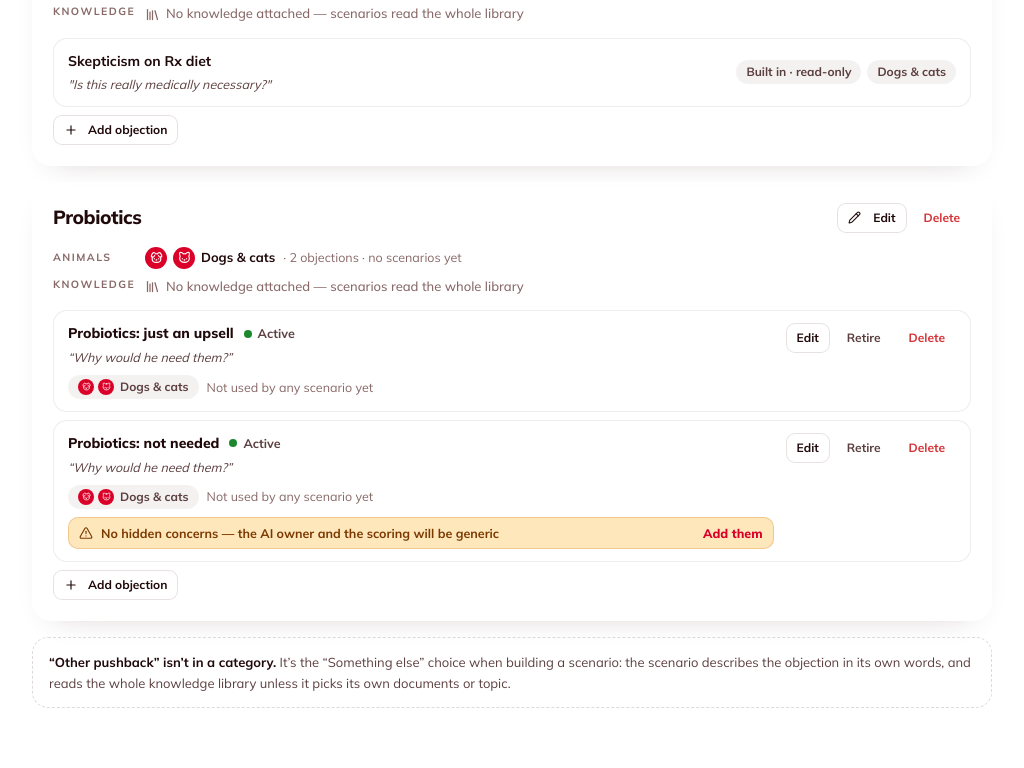
Test: Categories tab — objections without hidden concerns › a plain Edit keeps Coaching folded, but its note says it is recommended
(page scrolled)
Expected: the element "Probiotics" is shown, [32,182,992,621]
Step 1. Click the button with aria-label "Edit “Probiotics: not needed”" → x=808, y=448, box [786,433,830,463]
(page scrolled)
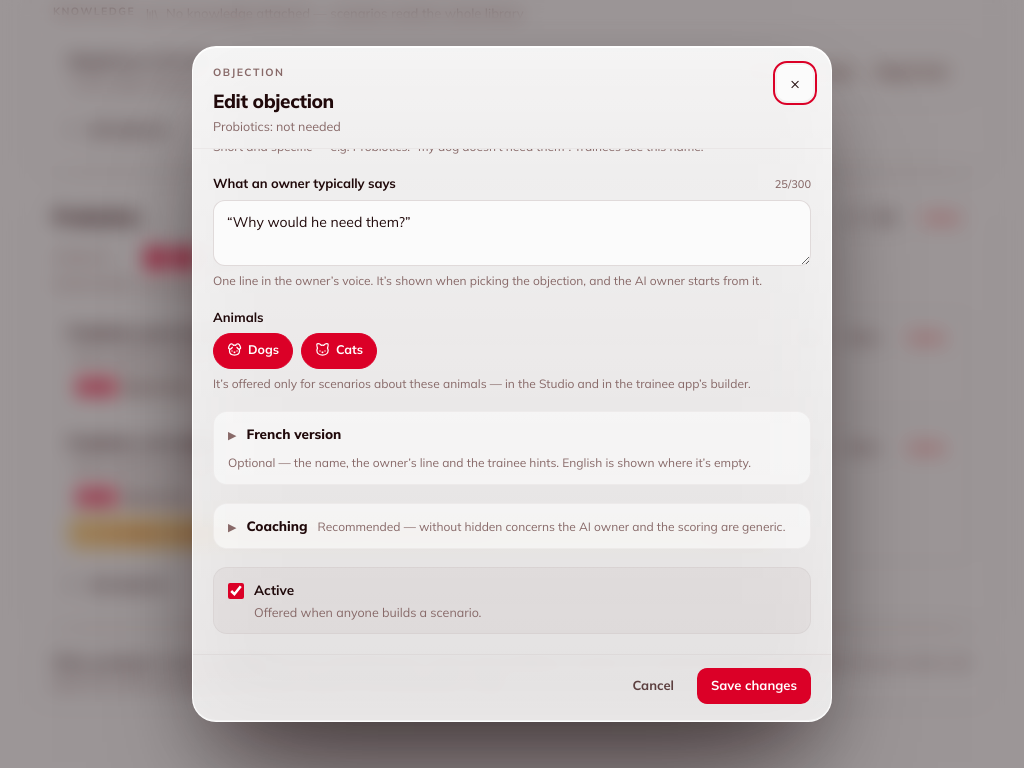
Now the button "Coaching" shows "Recommended — without hidden concerns the AI owner and the scoring are generic.", box [214,504,810,548]
